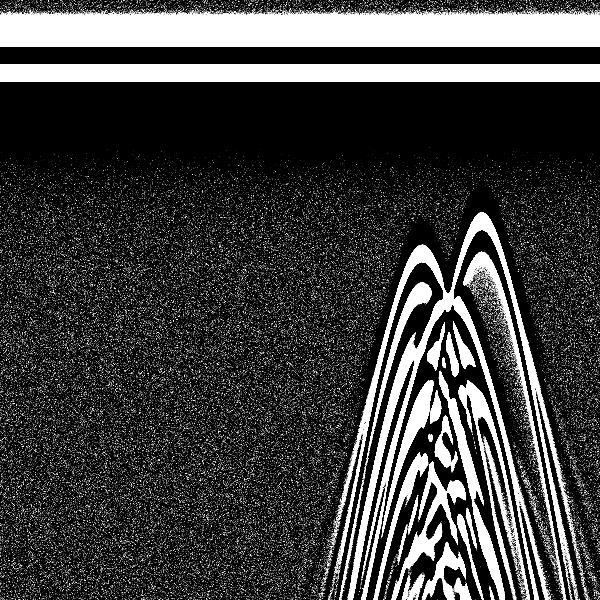pipe: (377, 7, 458, 334), (443, 6, 527, 308)
